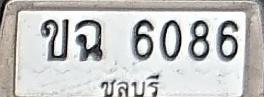0: (159, 19, 182, 61)
6: (216, 19, 238, 61), (132, 18, 154, 60)
8: (188, 19, 209, 61)
A02: (40, 18, 69, 61)
A09: (74, 19, 104, 61)
CBI: (97, 72, 162, 97)
